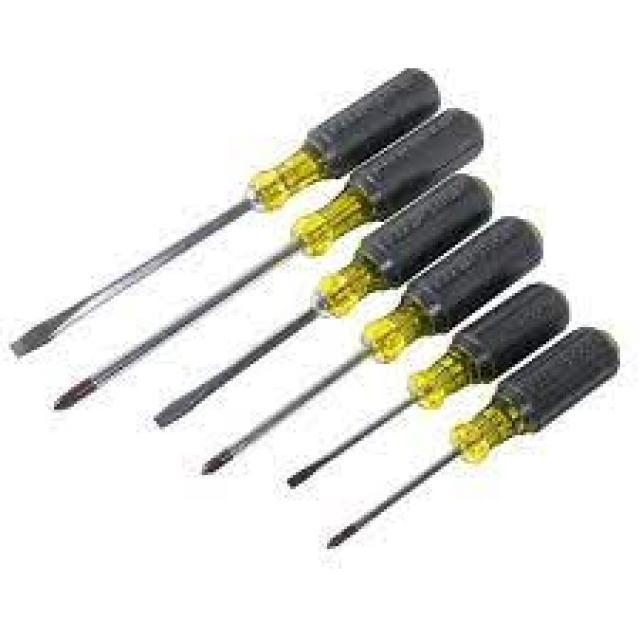screwdriver: (41, 104, 491, 422), (6, 62, 443, 368), (192, 210, 548, 480), (145, 169, 506, 434), (316, 322, 626, 554), (282, 278, 574, 497)
